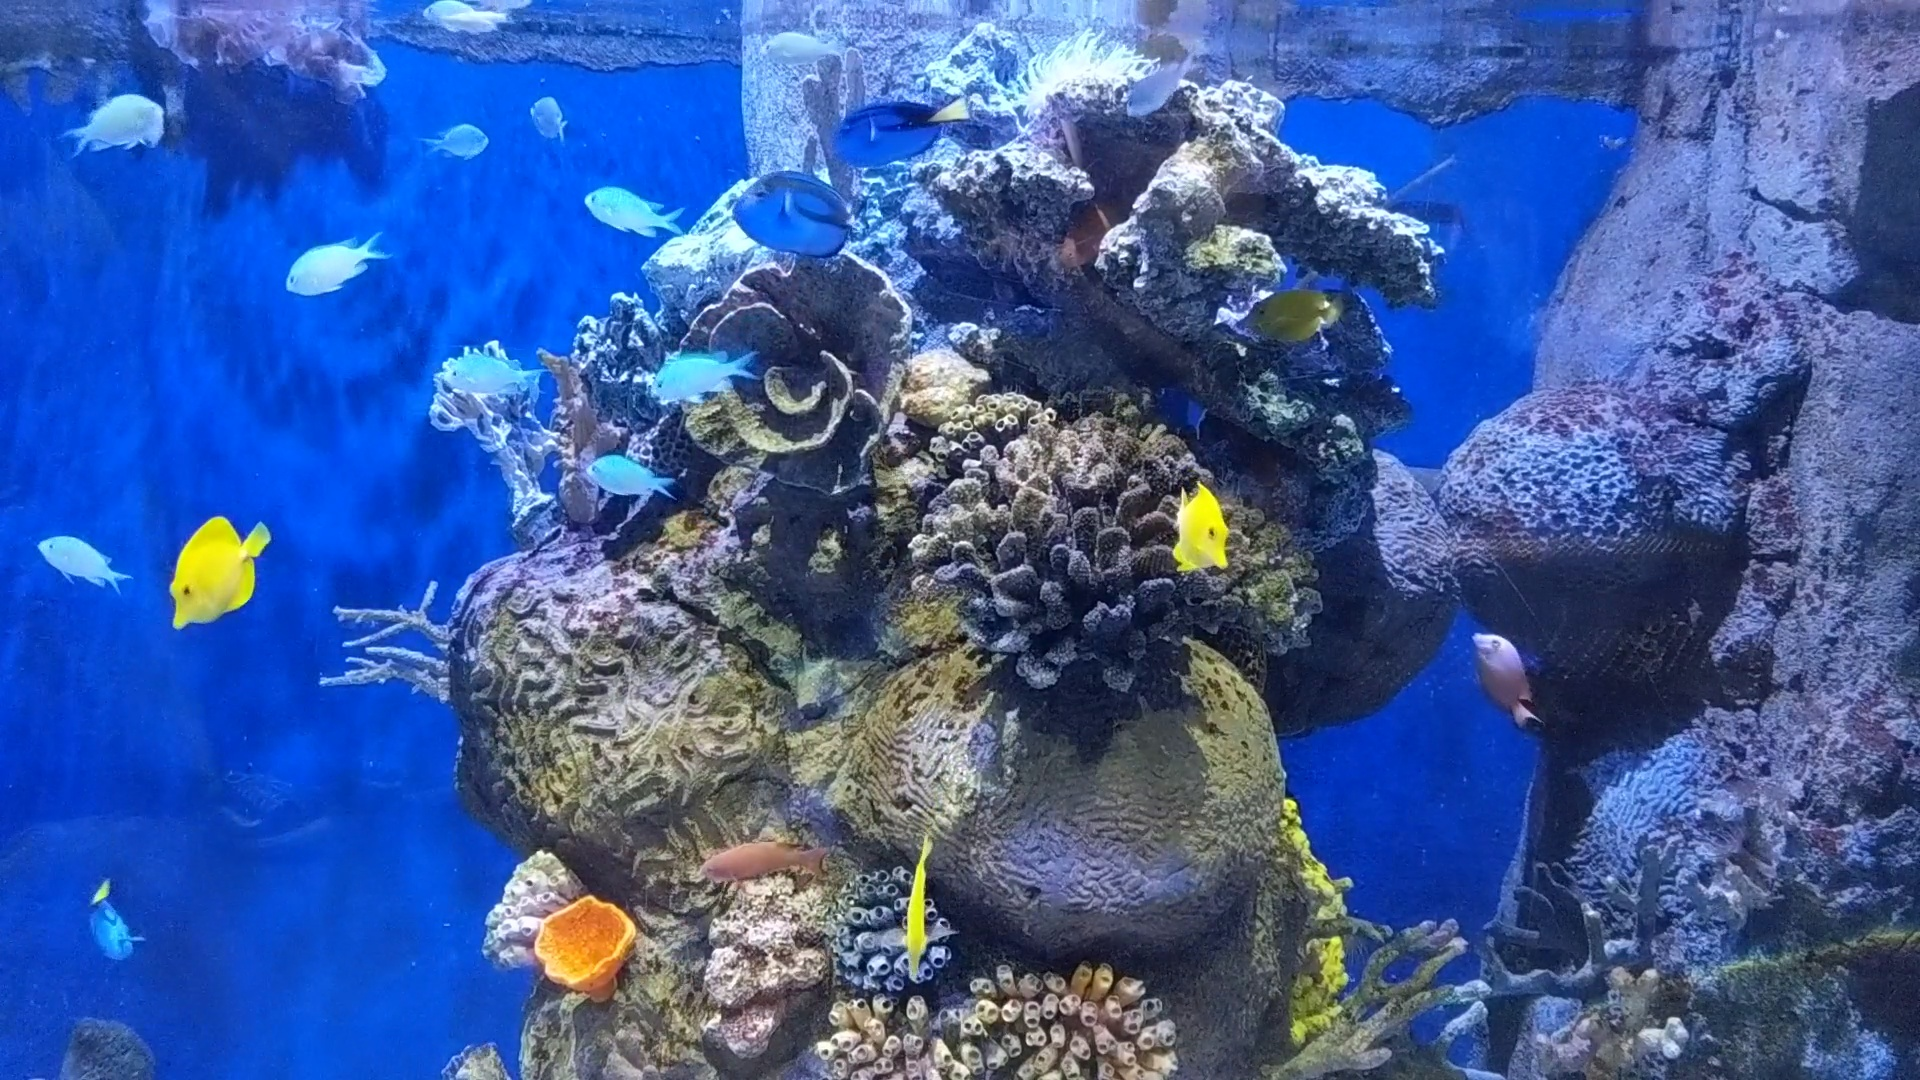blue tang surgeonfish: (709, 142, 873, 276), (823, 67, 986, 177), (71, 872, 156, 977)
damselfish: (636, 328, 777, 422), (274, 211, 396, 316), (33, 496, 131, 611), (572, 164, 691, 255), (57, 73, 178, 156), (566, 434, 684, 510), (433, 344, 545, 404), (426, 88, 504, 173), (1121, 47, 1197, 113), (426, 145, 582, 173), (514, 75, 578, 142)
pink fish: (1448, 597, 1553, 756)
saddle butterfly fish: (152, 502, 274, 634), (1145, 473, 1247, 582), (1238, 265, 1352, 353)
